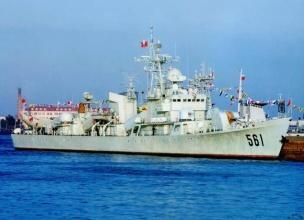warship: (17, 46, 291, 157)
